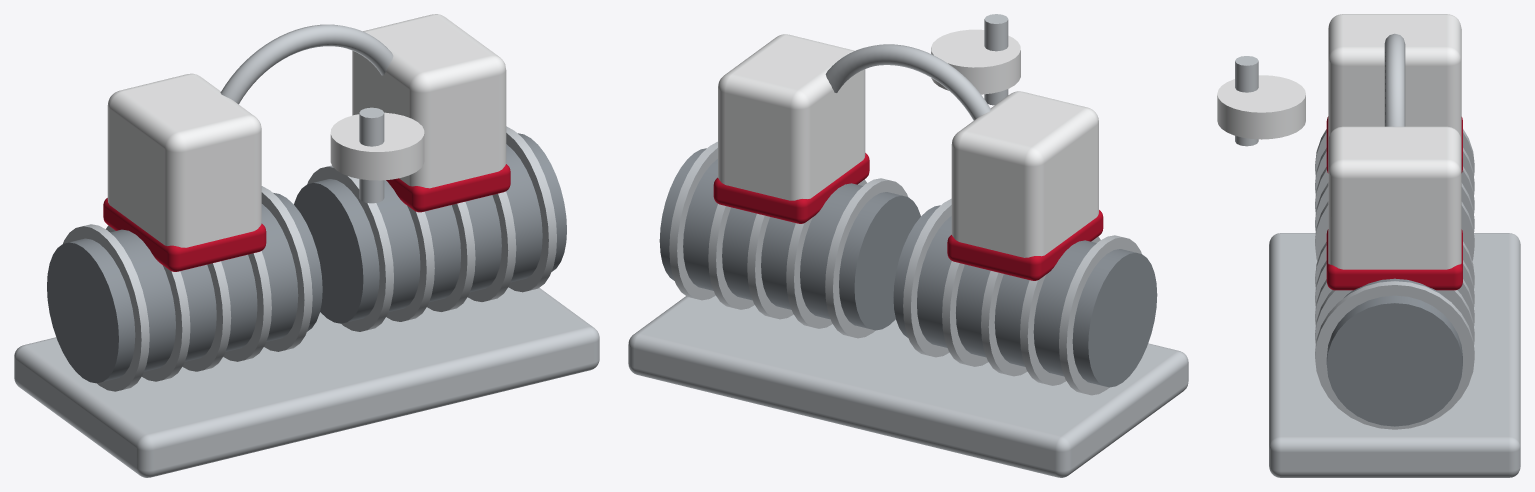
The picture shows the model from 3 angles, left to right: view 1: azimuth 30°, elevation 25°; view 2: azimuth 150°, elevation 25°; view 3: azimuth 270°, elevation 25°; orthographic projection. The views are drawn at different scales.
Size of the model in its own units: 0.34 by 0.247 by 0.205.
